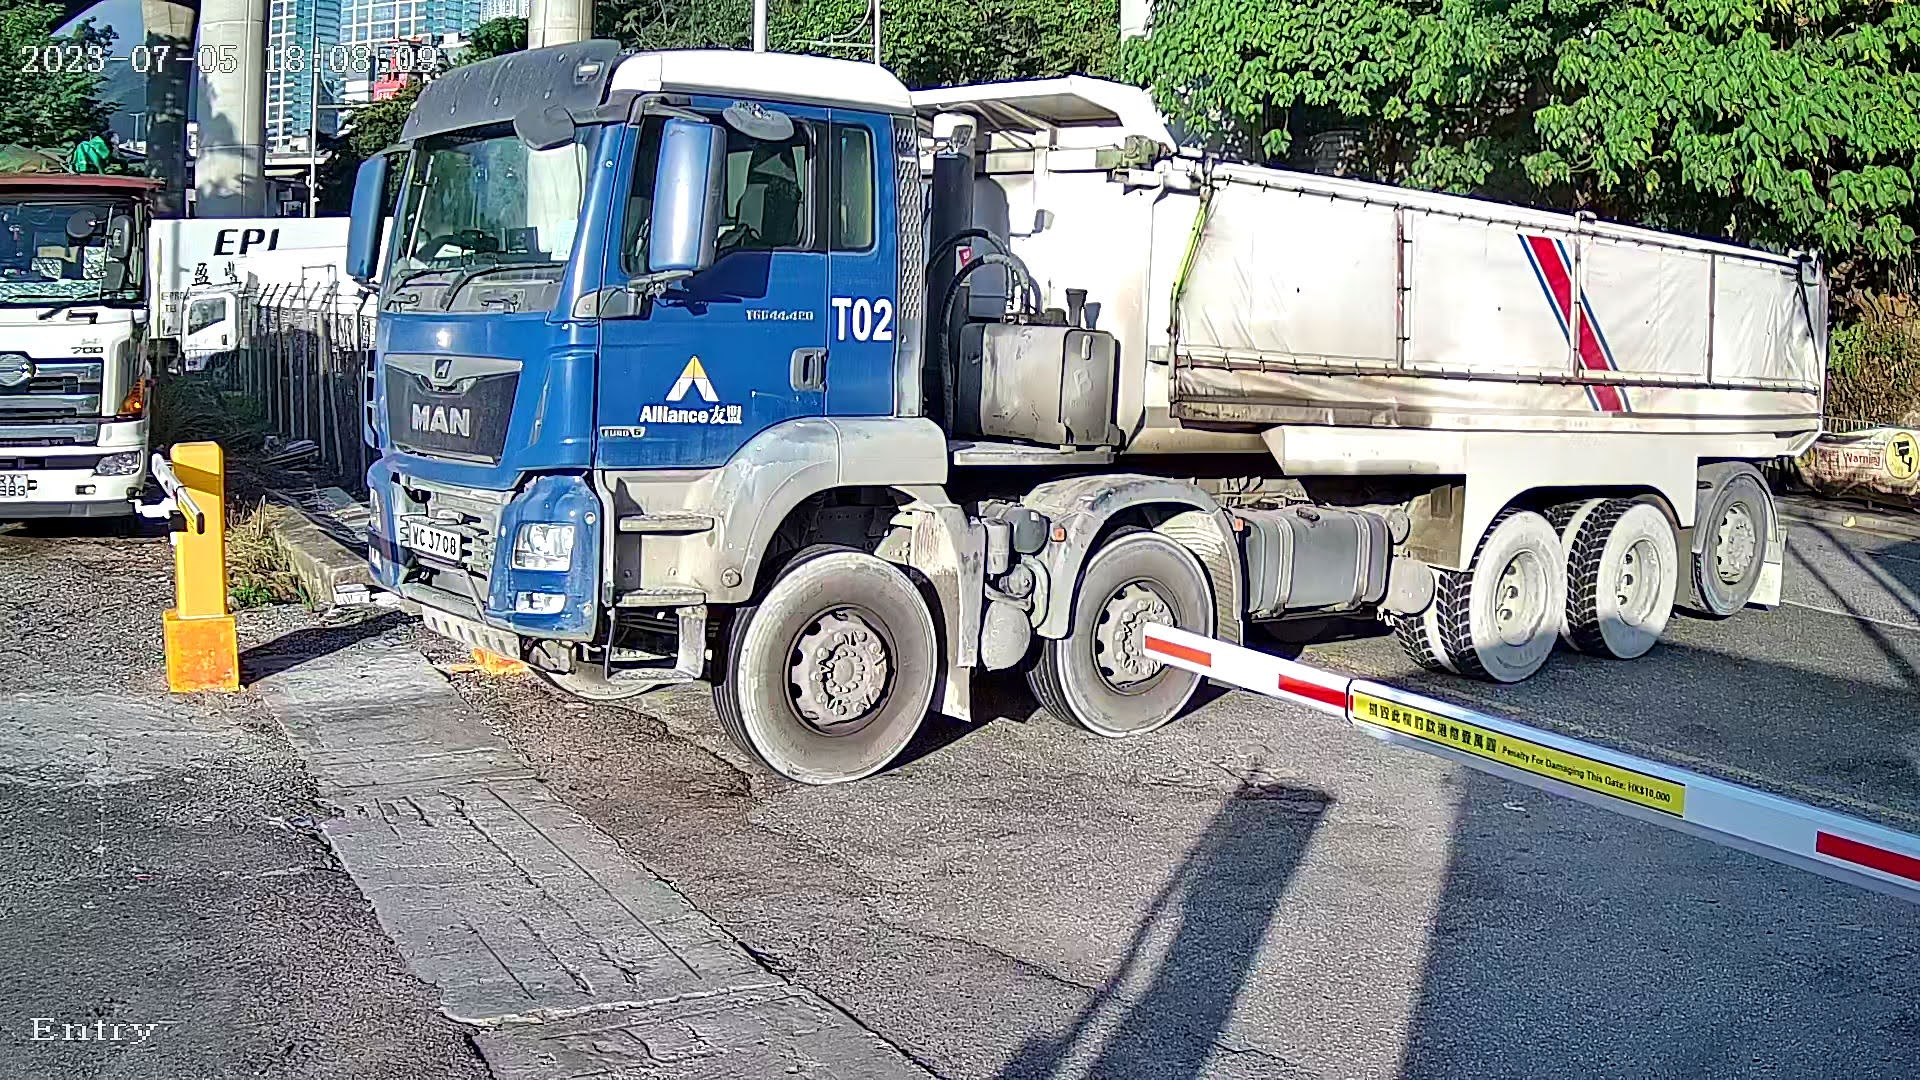truck_large: (323, 1, 1851, 818)
